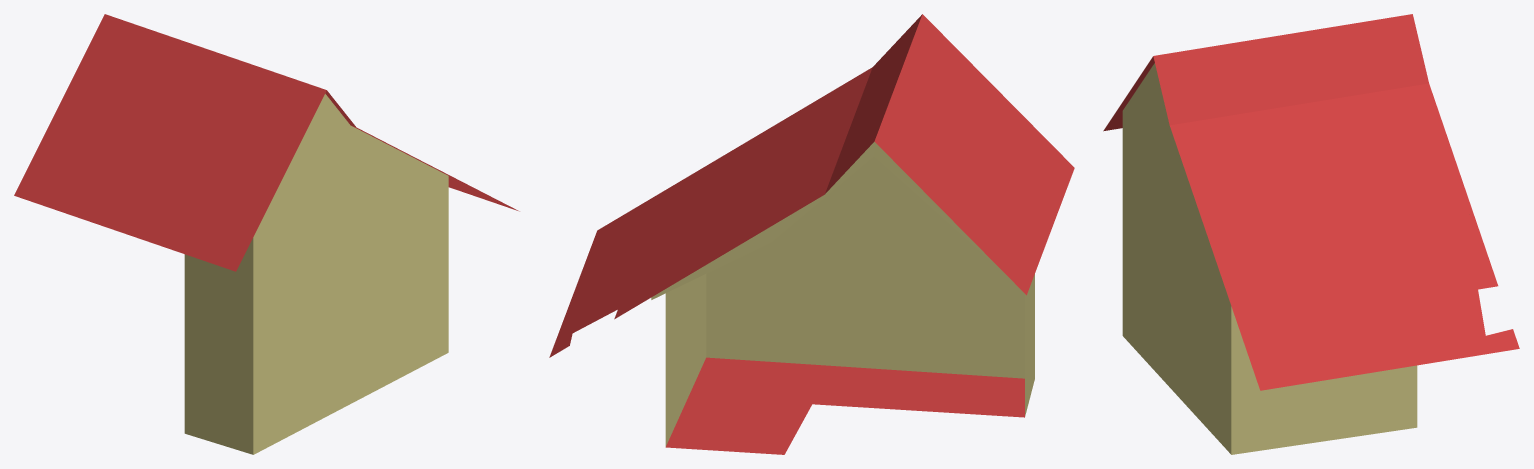
3 renders of one model, left to right at view 1: azimuth 30°, elevation 25°; view 2: azimuth 150°, elevation 25°; view 3: azimuth 270°, elevation 25°, orthographic. The views are drawn at different scales.
Bounding box in the file's own units: 21.92 × 17.91 × 15.28.
